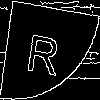R: (25, 25, 63, 76)
